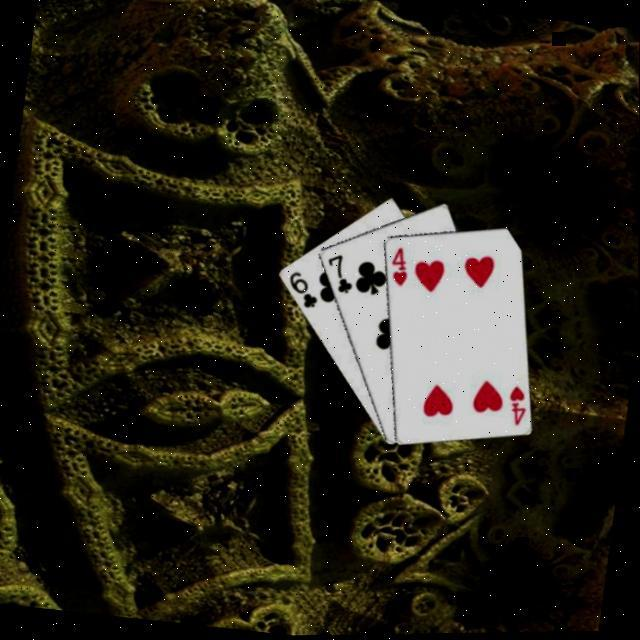4H: (387, 242, 415, 288), (504, 382, 532, 428)
6C: (284, 266, 326, 310)
7C: (322, 248, 360, 296)
